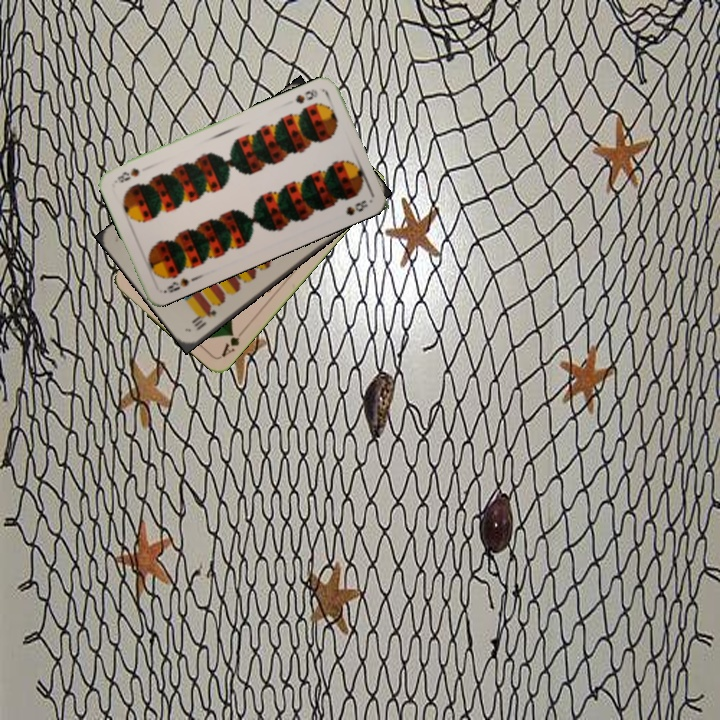E10: (189, 305, 219, 333)
GA: (217, 325, 248, 360)
S8: (159, 274, 192, 296), (291, 85, 320, 106)
